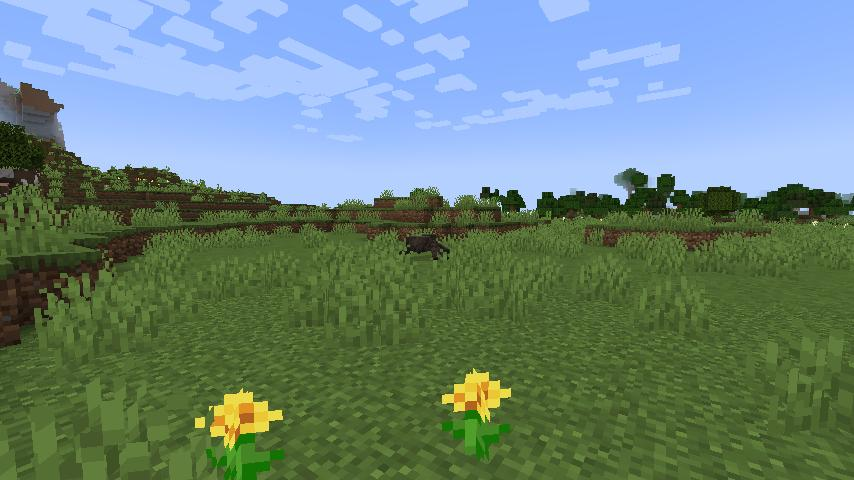spider: (398, 231, 447, 261)
